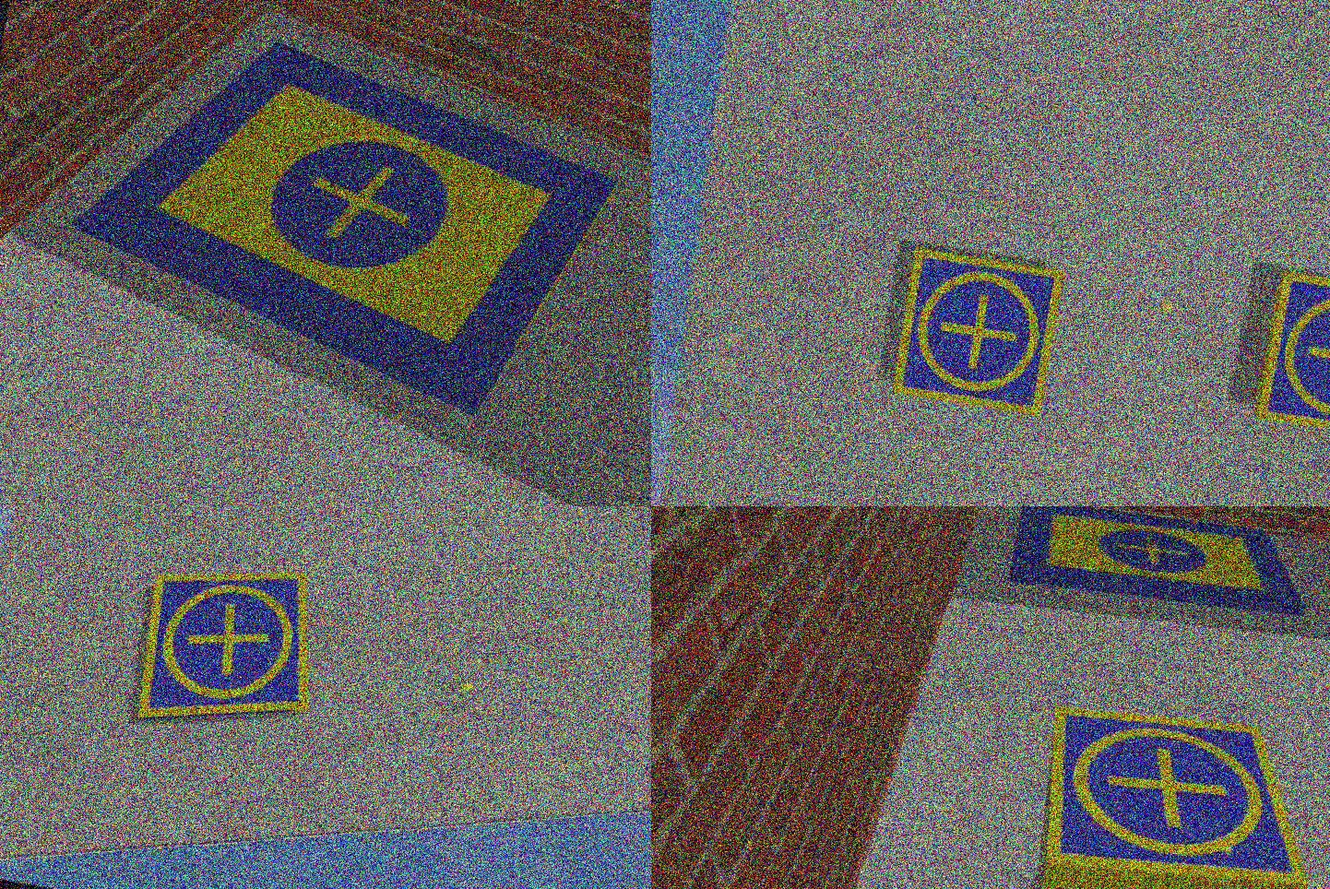large_base: (50, 6, 639, 441), (1008, 506, 1325, 630)
small_base: (1028, 692, 1330, 889), (128, 549, 328, 751), (891, 243, 1064, 421), (1253, 267, 1330, 449)
